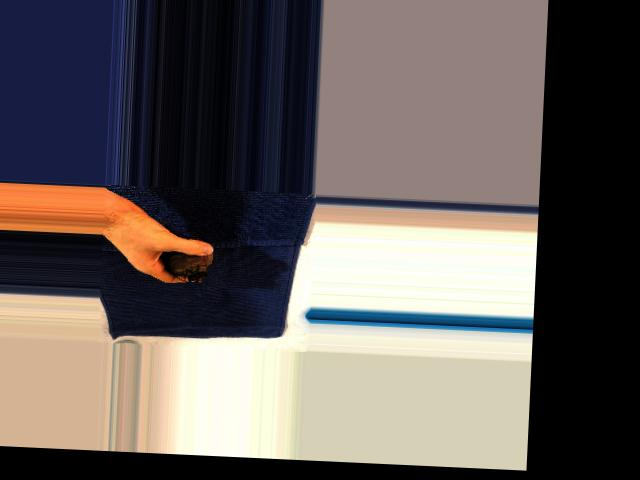beet: (160, 218, 215, 282)
